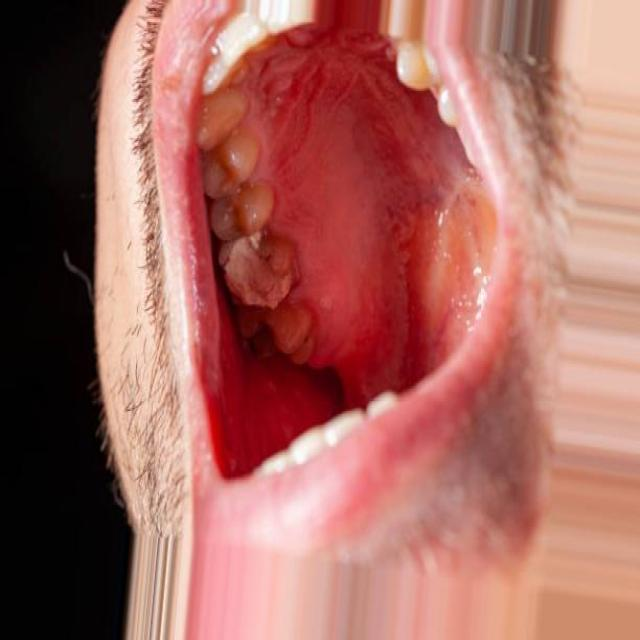caries: (215, 221, 299, 307)
